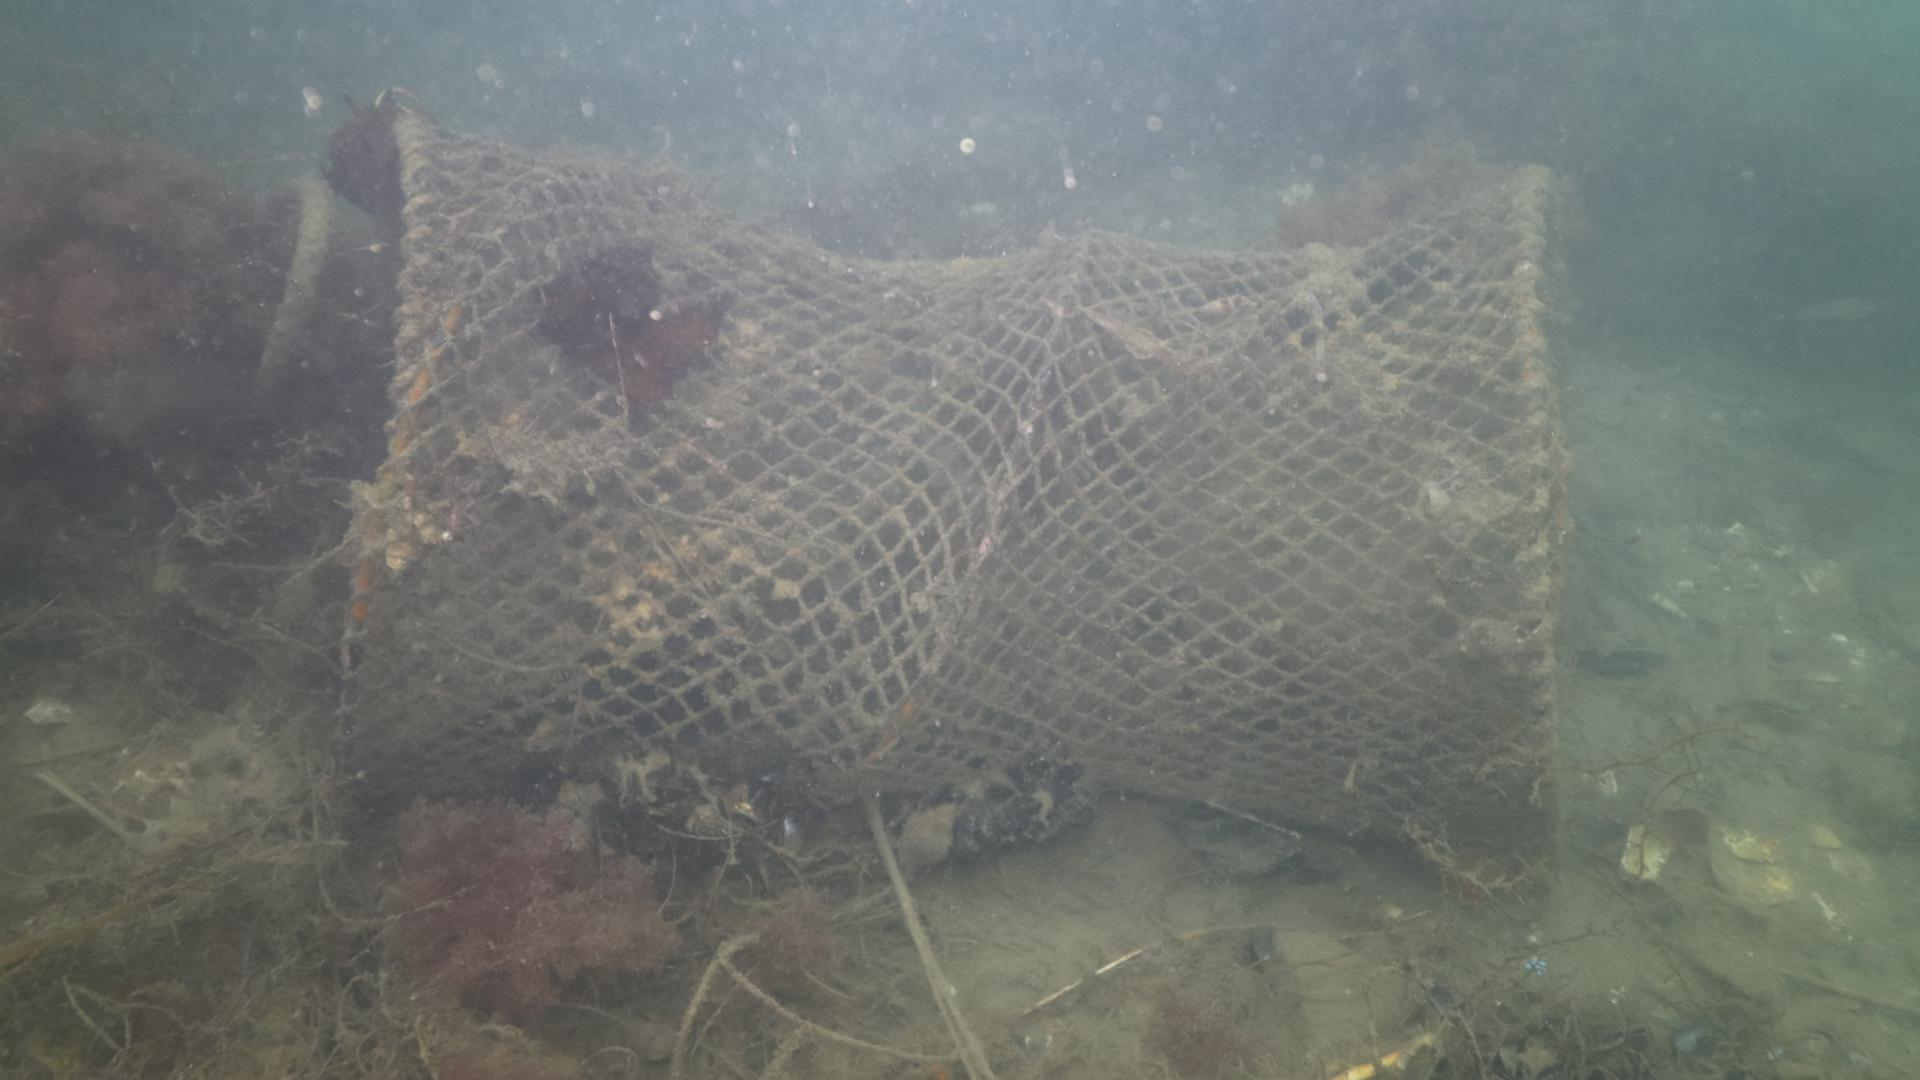spring fish trap: (316, 87, 1569, 876)
